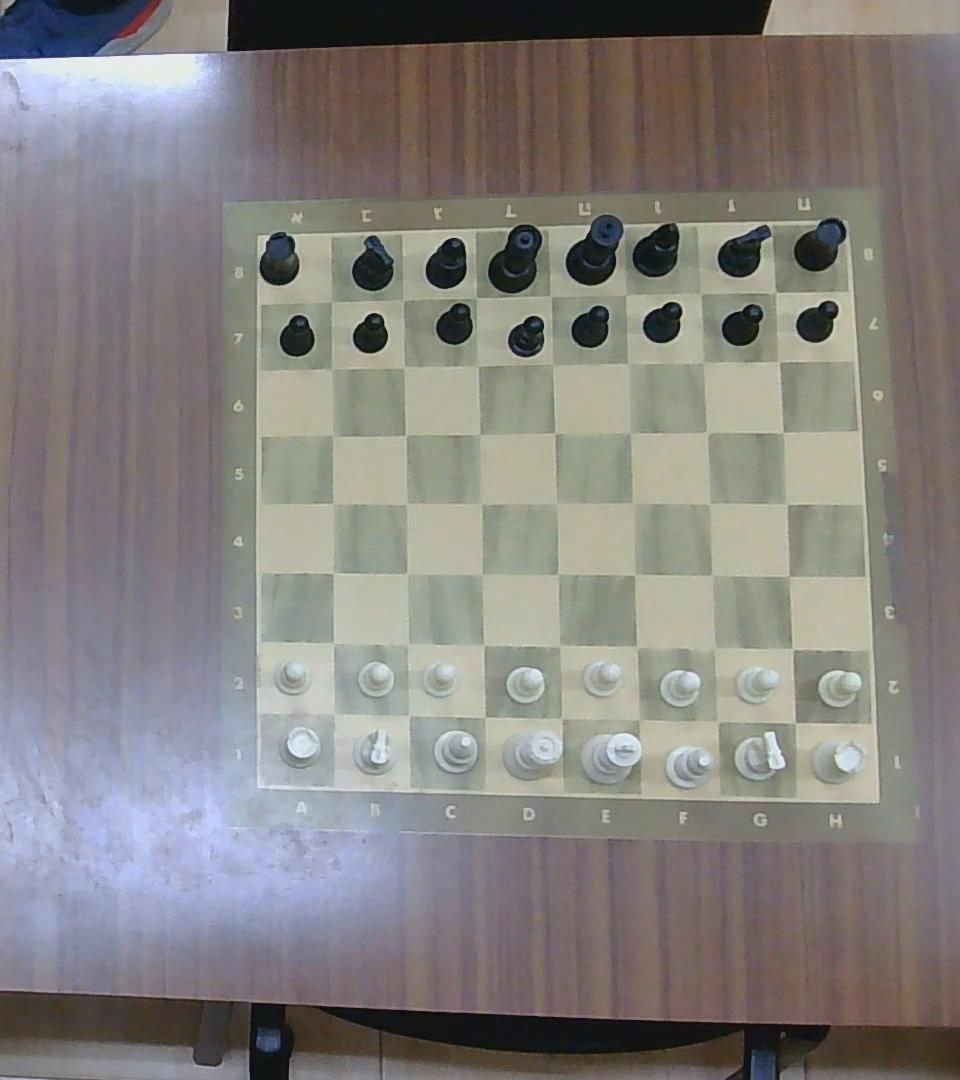xcorner: (618, 629, 653, 663), (776, 705, 810, 738), (541, 628, 575, 660), (620, 701, 654, 733), (543, 701, 576, 733), (697, 632, 731, 663), (700, 704, 732, 736), (316, 697, 348, 729), (392, 699, 423, 731), (468, 701, 500, 732), (619, 558, 650, 589), (392, 629, 423, 659), (317, 627, 347, 658), (776, 634, 807, 664), (543, 558, 573, 589), (772, 560, 803, 590), (468, 629, 498, 659), (697, 560, 727, 590), (466, 558, 495, 588), (392, 557, 422, 586), (317, 557, 346, 586), (619, 488, 648, 517), (542, 488, 571, 517), (466, 487, 495, 515), (318, 487, 346, 515), (694, 489, 723, 516), (615, 418, 644, 445), (317, 420, 345, 447), (611, 281, 639, 308), (392, 489, 420, 516), (317, 354, 345, 381), (538, 349, 566, 376), (614, 349, 642, 376), (463, 283, 491, 310), (316, 287, 345, 313), (464, 351, 492, 377), (693, 417, 721, 443), (771, 490, 800, 515), (542, 420, 569, 446), (769, 419, 797, 444), (688, 280, 714, 306), (538, 282, 564, 308), (392, 421, 419, 446), (466, 420, 491, 446), (762, 279, 788, 304), (690, 348, 715, 373), (390, 353, 415, 378), (390, 286, 415, 310), (766, 349, 791, 372)
